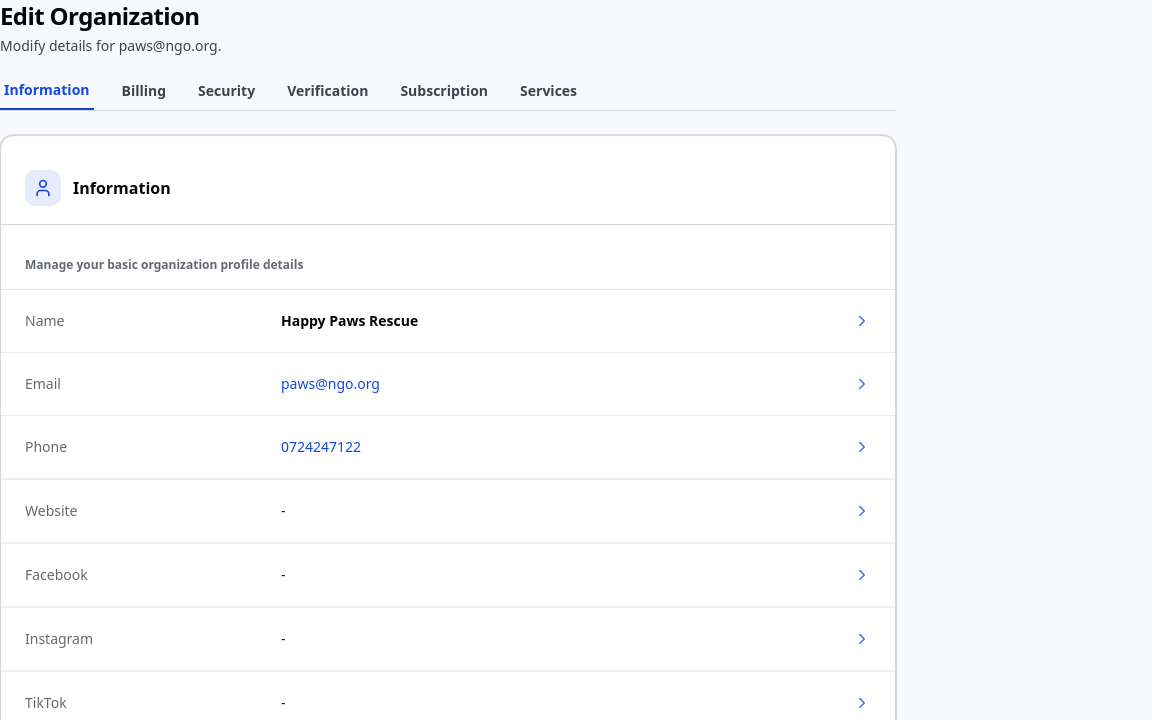
Test: EditOrganizationForm Component › should open and close the Identity edit modal on the Account information tab
Expected: the field labelled "Organization Name" is not shown
Click Edit button corresponding to Name row
What coordinates should you click on to do the following:
click the button named "Edit Name"
I would click on:
 (862, 321)
Its box is [847,306,877,336].
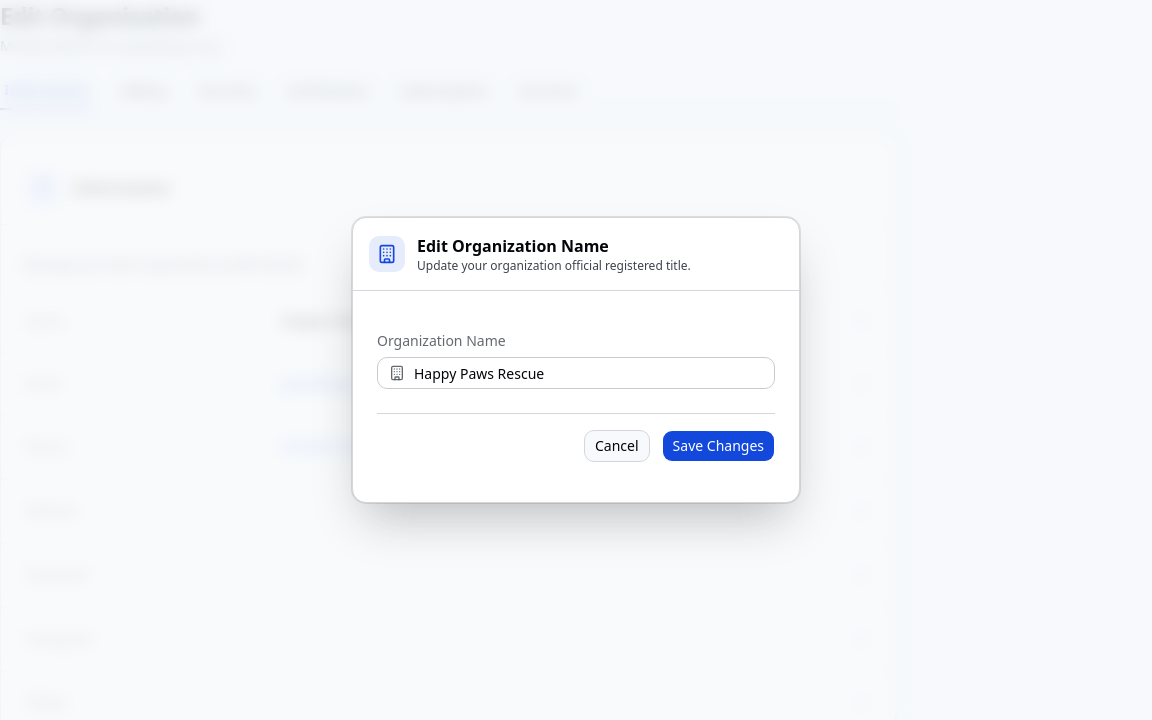
Expected: the field labelled "Organization Name" holds "Happy Paws Rescue", [377,357,775,389]
Click Cancel to close
What coordinates should you click on to do the following:
click the button "Cancel"
I would click on:
 (617, 446)
Its box is [584,430,650,462].
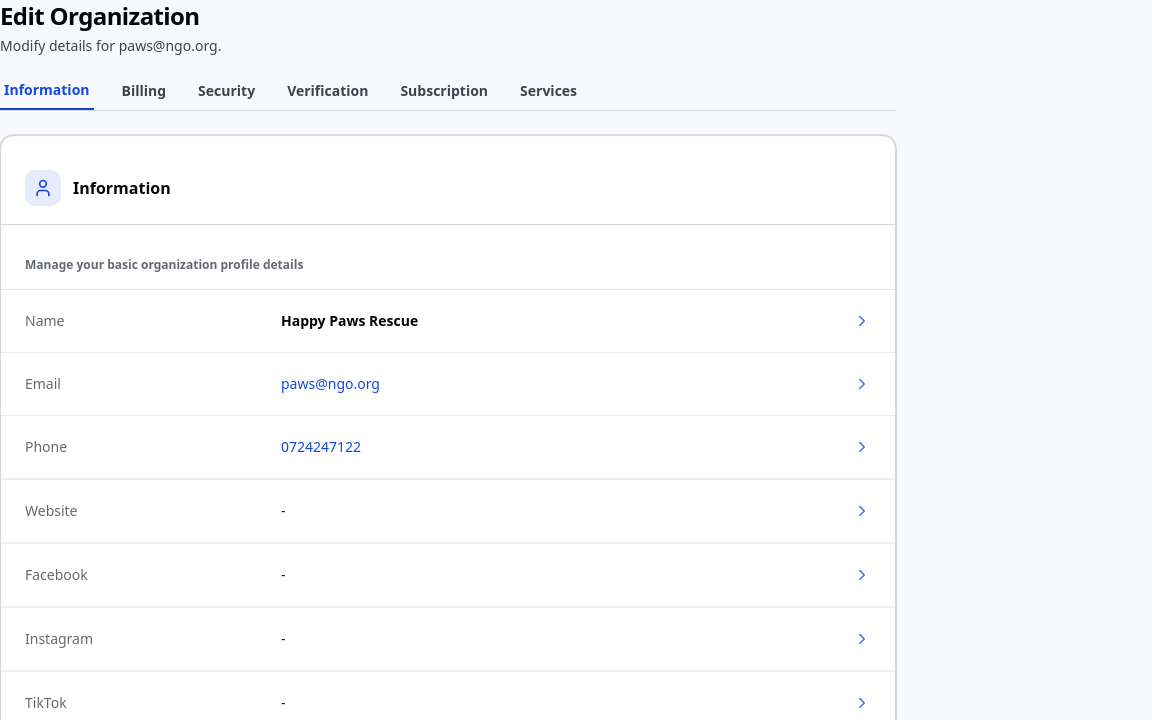
Expected: the text labelled "Organization Name" is gone
